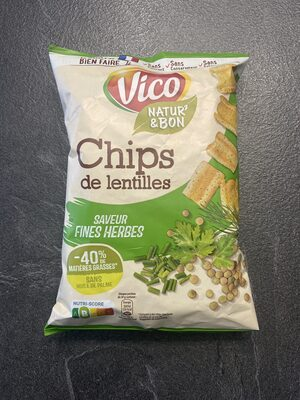Chips de lentilles saveur fines herbes: (15, 20, 285, 380)
